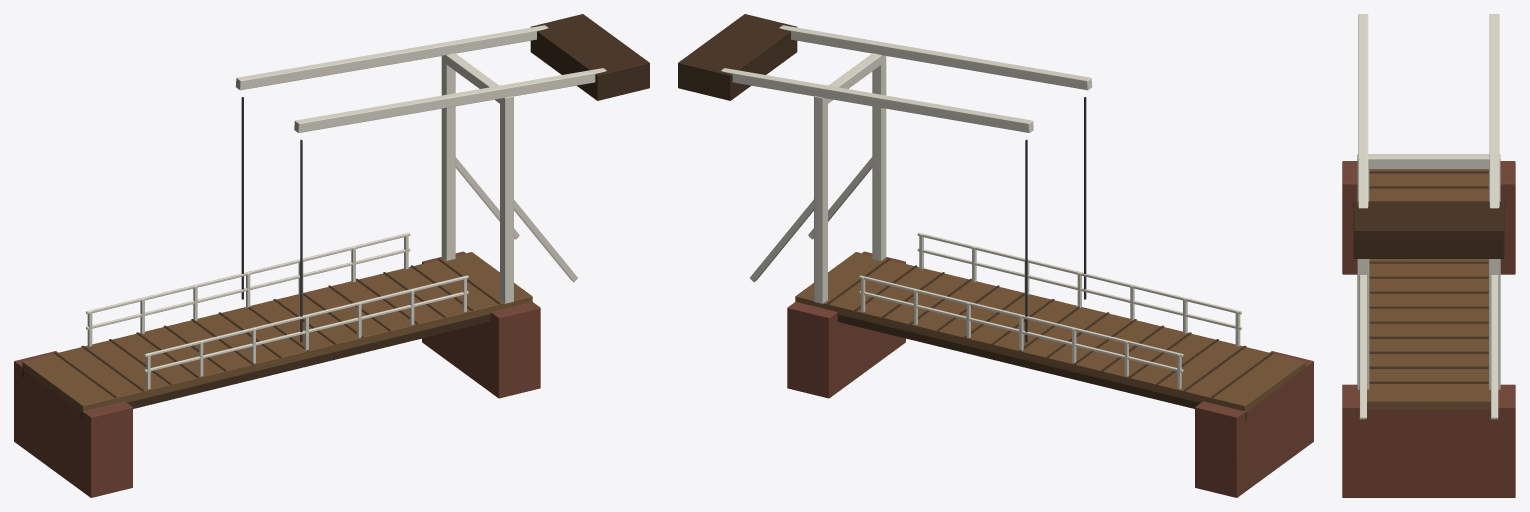
The model's file is ophaalbrug.glb.
3 renders of one model, left to right at view 1: azimuth 30°, elevation 25°; view 2: azimuth 150°, elevation 25°; view 3: azimuth 270°, elevation 25°, orthographic. The views are drawn at different scales.
Parts seen in each view (by area): view 1: Ophaalbrug; view 2: Ophaalbrug; view 3: Ophaalbrug.
Boxes of the visible parts, bbox=[...] form: Ophaalbrug: bbox=[14, 14, 649, 497]; Ophaalbrug: bbox=[678, 14, 1313, 497]; Ophaalbrug: bbox=[1342, 14, 1515, 497].
Bounding box in the file's own units: 16.05 × 8.61 × 3.8.
